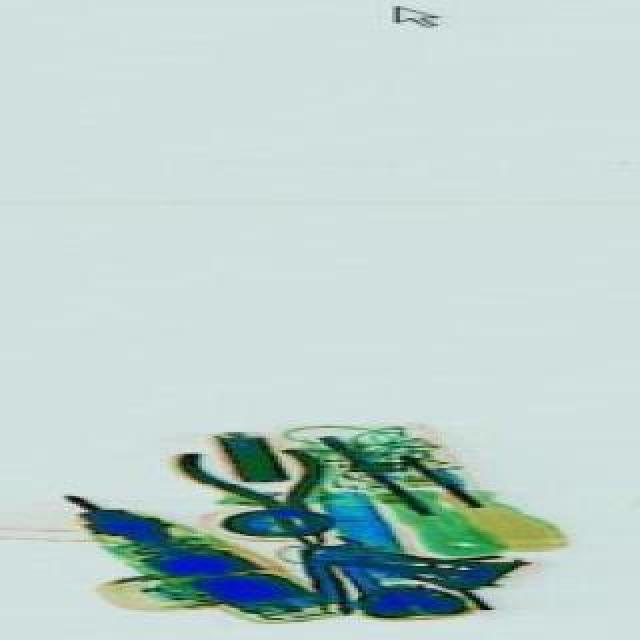scissors: (302, 522, 396, 618)
wrench: (170, 398, 354, 578)
